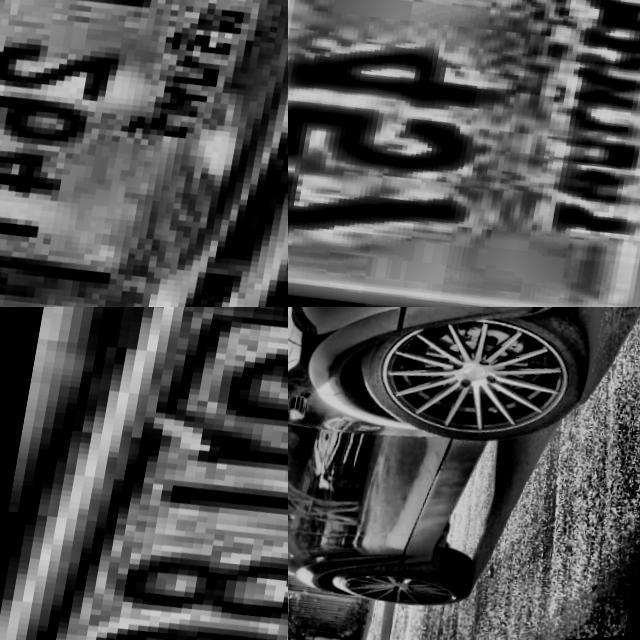license-plate: (288, 0, 640, 307), (0, 307, 288, 640), (0, 0, 288, 307)
